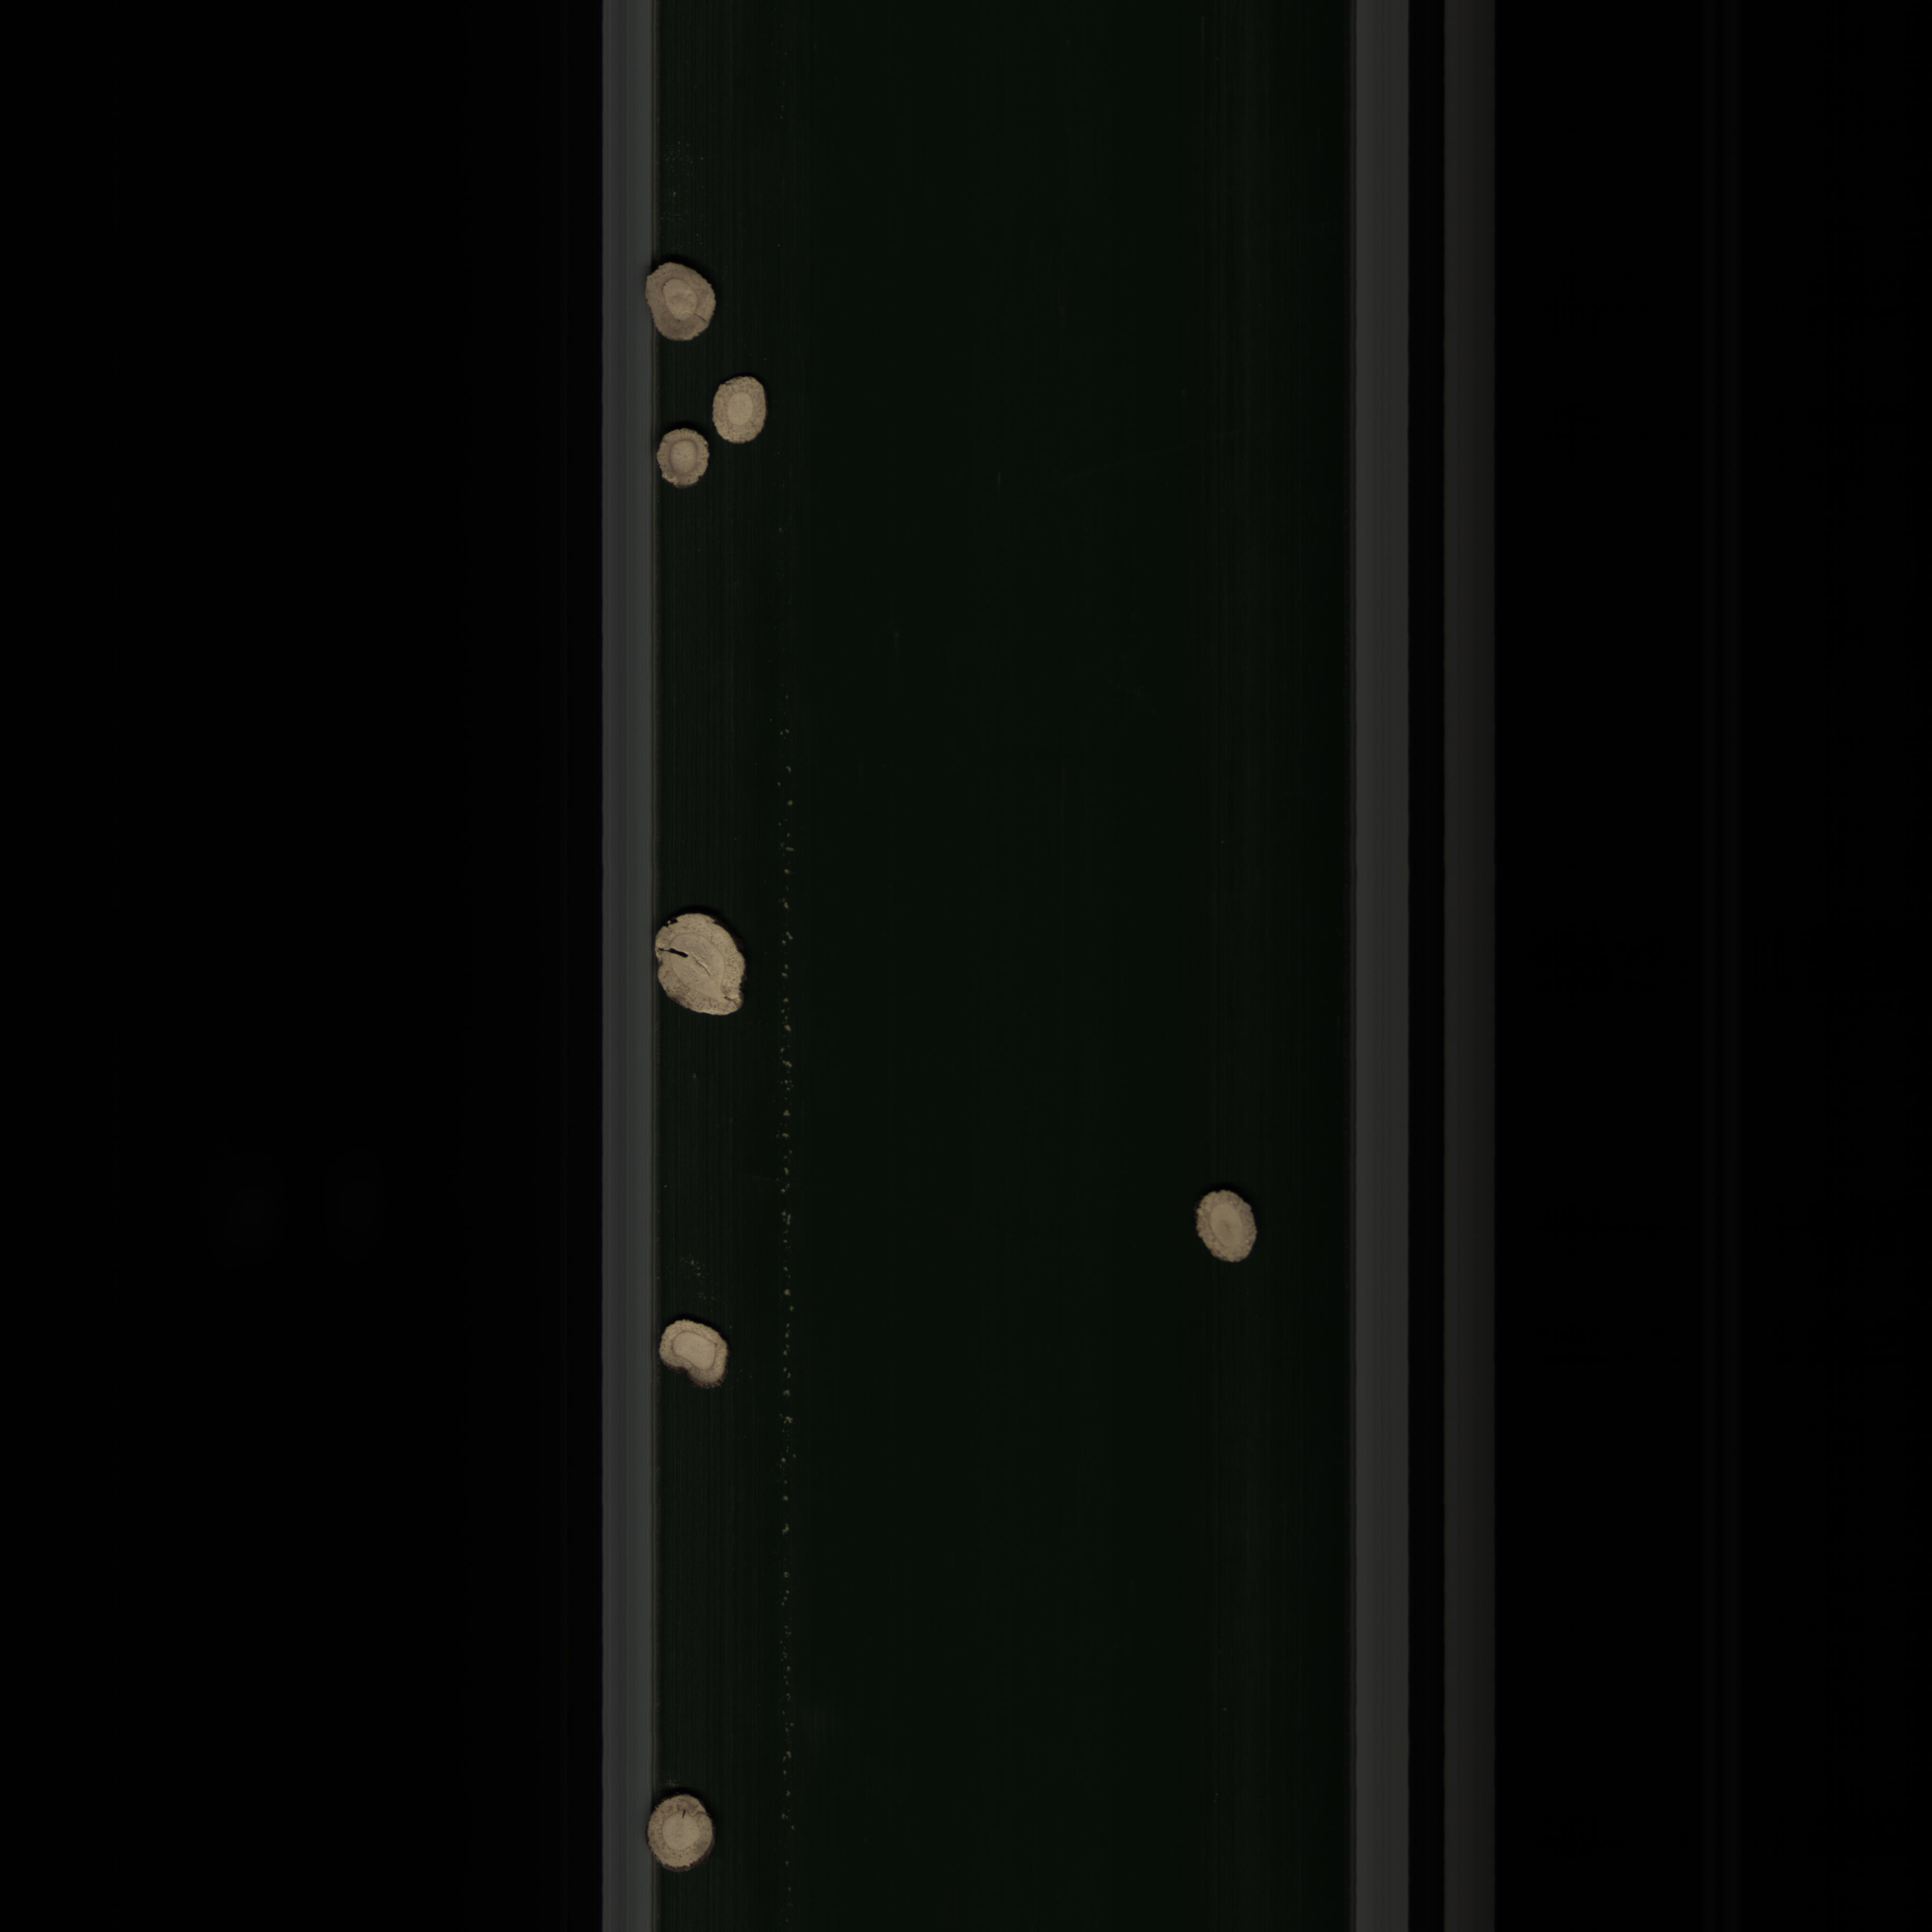hole: (648, 895, 757, 1047)
